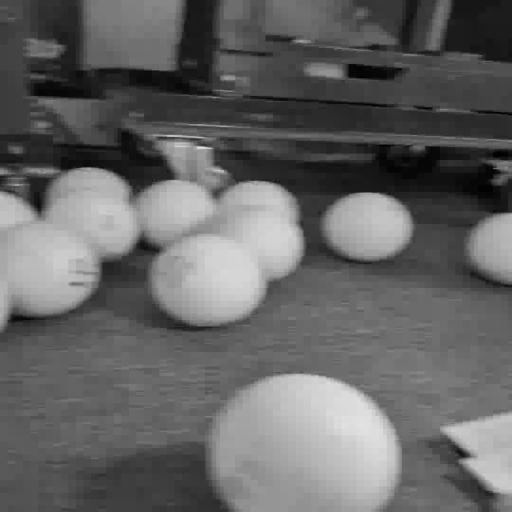fuel: (206, 374, 401, 511), (149, 234, 266, 327), (0, 219, 101, 317), (213, 210, 304, 281), (321, 192, 413, 262), (44, 196, 139, 261), (136, 179, 218, 249), (219, 181, 300, 222), (465, 213, 511, 285), (46, 168, 132, 204), (0, 191, 37, 231), (0, 276, 10, 331)
